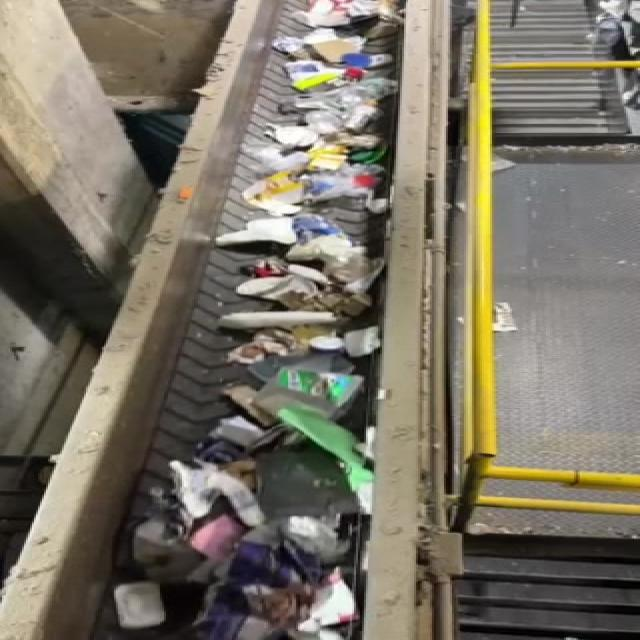paper: (270, 512, 362, 576)
pp: (272, 402, 379, 501), (100, 583, 175, 640)
